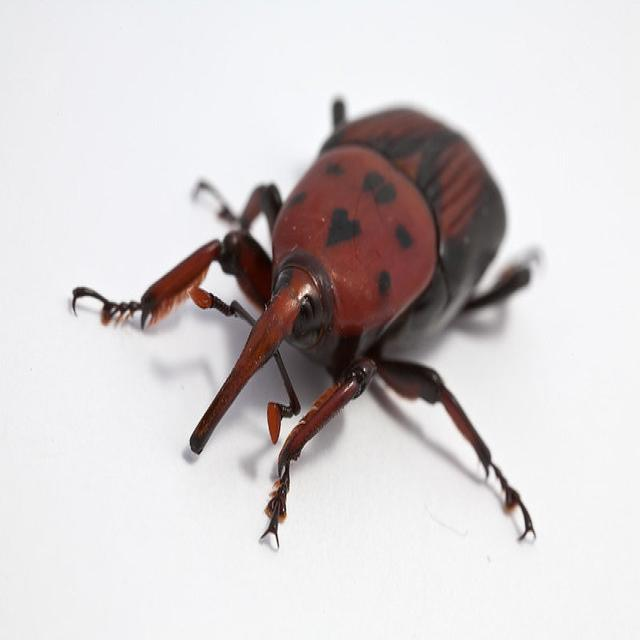Red-palm-weevil: (154, 96, 507, 455)
